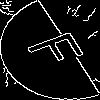F: (24, 25, 97, 72)
